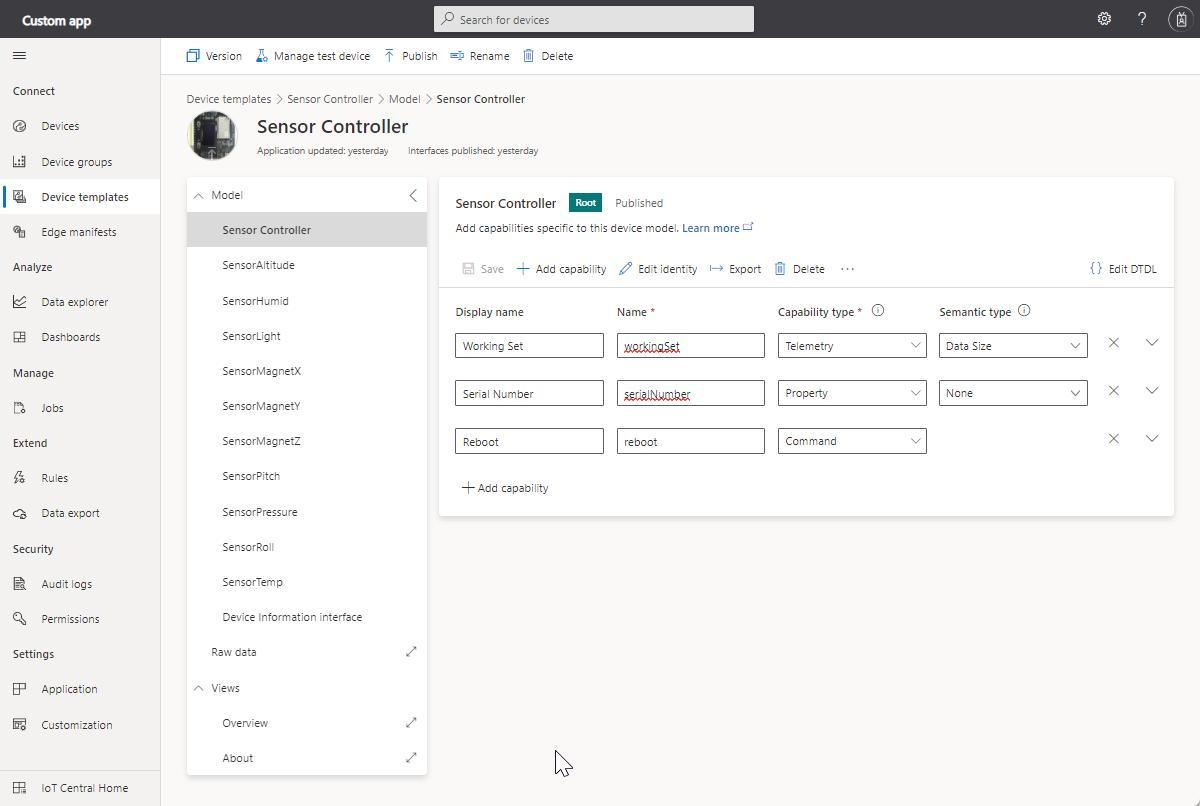button: (188, 212, 428, 248), (570, 193, 603, 214)
dropdown: (187, 178, 428, 212), (939, 380, 1089, 408), (779, 333, 929, 360), (779, 428, 928, 455), (779, 381, 929, 407), (940, 334, 1090, 359), (188, 677, 247, 700), (1146, 431, 1162, 446), (1145, 337, 1162, 349), (1145, 387, 1160, 396)
icon: (1169, 7, 1196, 33), (1087, 259, 1106, 280), (11, 293, 30, 313), (11, 328, 32, 346), (1096, 11, 1114, 29), (12, 575, 29, 594), (12, 610, 28, 630), (461, 262, 478, 279), (186, 48, 202, 66), (9, 507, 29, 521), (617, 262, 634, 278), (772, 262, 788, 279), (13, 188, 27, 207), (12, 120, 28, 136), (13, 154, 29, 170), (12, 401, 28, 417), (255, 48, 271, 64), (13, 780, 28, 797), (449, 50, 468, 63), (12, 681, 27, 697), (522, 48, 537, 64), (515, 263, 532, 277), (13, 717, 28, 732), (1108, 431, 1122, 447), (383, 47, 396, 64), (839, 265, 859, 276), (12, 50, 30, 62), (13, 226, 27, 241), (404, 752, 419, 766), (1109, 334, 1122, 350), (709, 265, 727, 276), (462, 482, 476, 496), (1018, 305, 1032, 319), (873, 304, 886, 319), (1138, 12, 1150, 28), (1109, 384, 1120, 401), (407, 646, 420, 660), (405, 717, 419, 730), (14, 471, 26, 486), (744, 221, 756, 232)
input: (435, 7, 755, 33), (457, 380, 604, 407), (456, 333, 605, 359), (618, 333, 766, 359), (618, 381, 766, 407), (456, 429, 604, 455), (618, 429, 765, 455)
label: (257, 116, 414, 140), (223, 611, 365, 626), (22, 10, 95, 33), (456, 198, 556, 213), (778, 306, 864, 322), (41, 192, 131, 207), (41, 783, 131, 797), (42, 226, 119, 242), (222, 435, 304, 450), (223, 506, 299, 521), (42, 295, 109, 312), (42, 719, 116, 734), (220, 294, 294, 309), (219, 365, 304, 378), (275, 52, 373, 63), (222, 401, 303, 414), (479, 483, 551, 497), (533, 263, 609, 276), (937, 307, 1013, 320), (43, 157, 113, 171), (454, 307, 528, 320), (41, 613, 101, 629), (222, 470, 282, 486), (222, 576, 286, 591), (43, 681, 99, 698), (223, 260, 298, 272), (1110, 262, 1160, 279), (221, 330, 284, 343), (41, 577, 95, 592), (638, 264, 699, 277), (42, 508, 102, 521), (41, 119, 82, 137), (211, 646, 261, 660), (222, 717, 269, 731), (610, 305, 660, 318), (14, 261, 56, 276), (14, 84, 58, 98), (222, 750, 258, 767), (42, 334, 102, 344), (223, 542, 275, 553), (12, 543, 55, 556), (13, 437, 51, 451), (13, 369, 56, 381), (12, 651, 57, 662), (470, 51, 511, 63), (729, 263, 766, 276), (543, 50, 577, 64), (789, 264, 828, 276), (206, 51, 243, 63), (403, 52, 440, 62), (42, 401, 65, 417), (41, 473, 71, 484), (482, 264, 506, 277)
